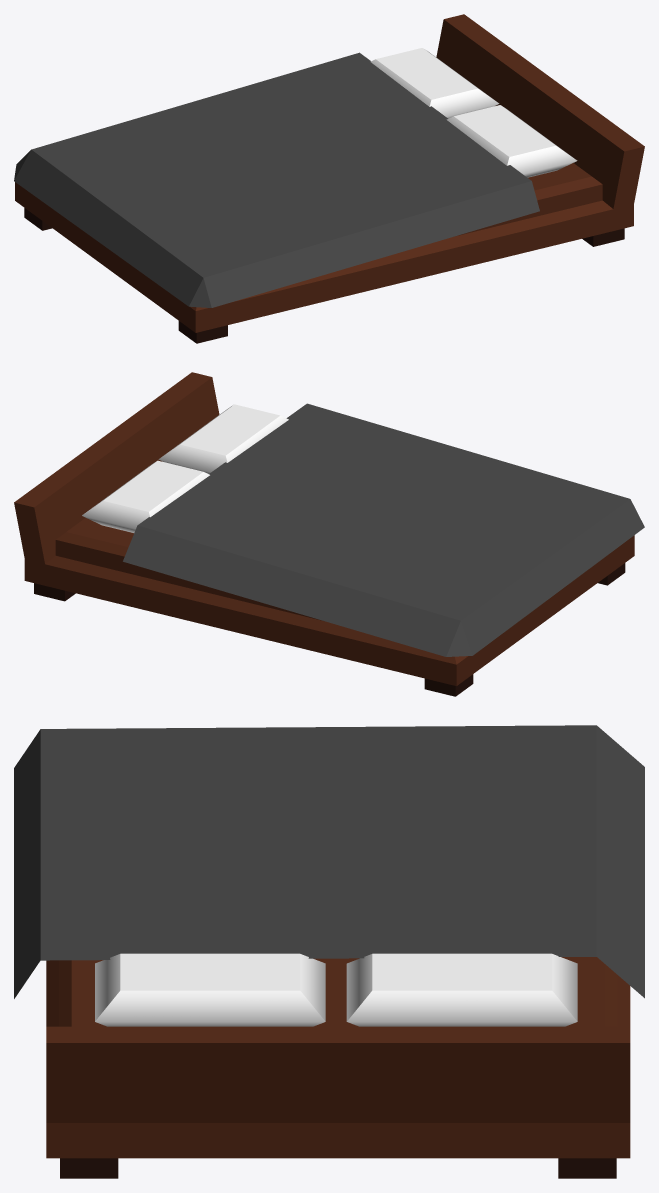
Rendered from Bed.FBX.
3 views of the same model, one above another, from view 1: azimuth 30°, elevation 25°; view 2: azimuth 150°, elevation 25°; view 3: azimuth 270°, elevation 25° (orthographic). The views are drawn at different scales.
Visible parts, largest first — view 1: Sheet, Bed, Pillow2, Pillow1, Leg2; view 2: Sheet, Bed, Pillow2, Pillow1, Leg3; view 3: Sheet, Bed, Pillow1, Pillow2, Leg4, Leg1.
Boxes of the visible parts, x1,y1,x2,y2 form: Sheet: [14, 52, 539, 307]; Bed: [15, 14, 644, 332]; Pillow2: [446, 105, 577, 177]; Pillow1: [370, 48, 499, 118]; Leg2: [178, 321, 227, 343]; Sheet: [123, 403, 644, 656]; Bed: [14, 372, 634, 685]; Pillow2: [158, 404, 288, 473]; Pillow1: [82, 460, 209, 532]; Leg3: [424, 674, 473, 696]; Sheet: [14, 725, 644, 998]; Bed: [46, 957, 630, 1158]; Pillow1: [346, 953, 577, 1026]; Pillow2: [95, 953, 325, 1026]; Leg4: [558, 1158, 616, 1178]; Leg1: [60, 1158, 118, 1178].
Size of the model in its own units: 177 by 33.97 by 130.
